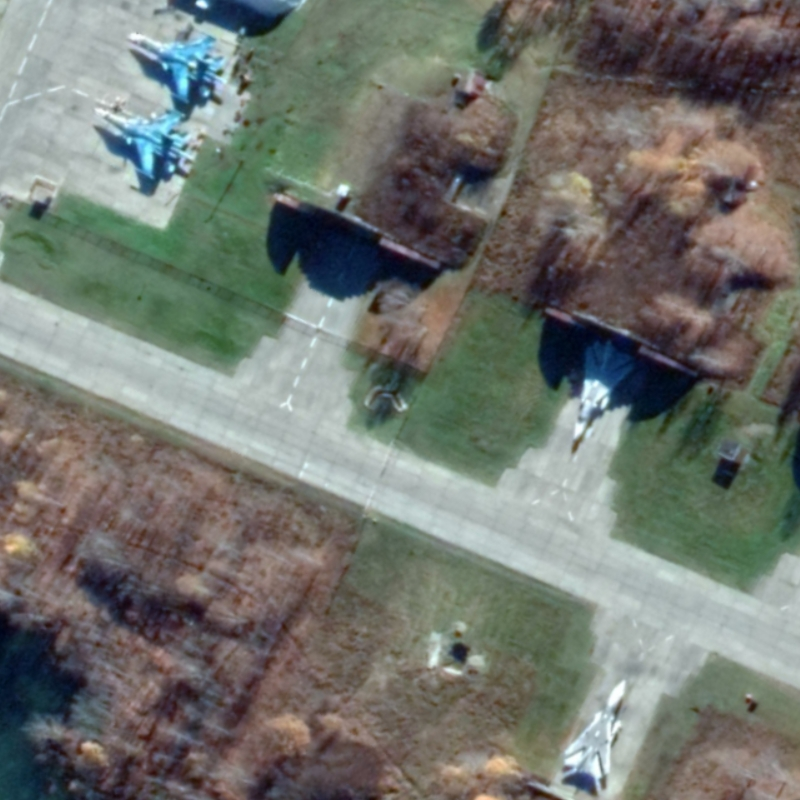A19: (93, 103, 198, 181), (125, 28, 229, 106)
A20: (571, 338, 637, 443), (561, 678, 627, 781)
